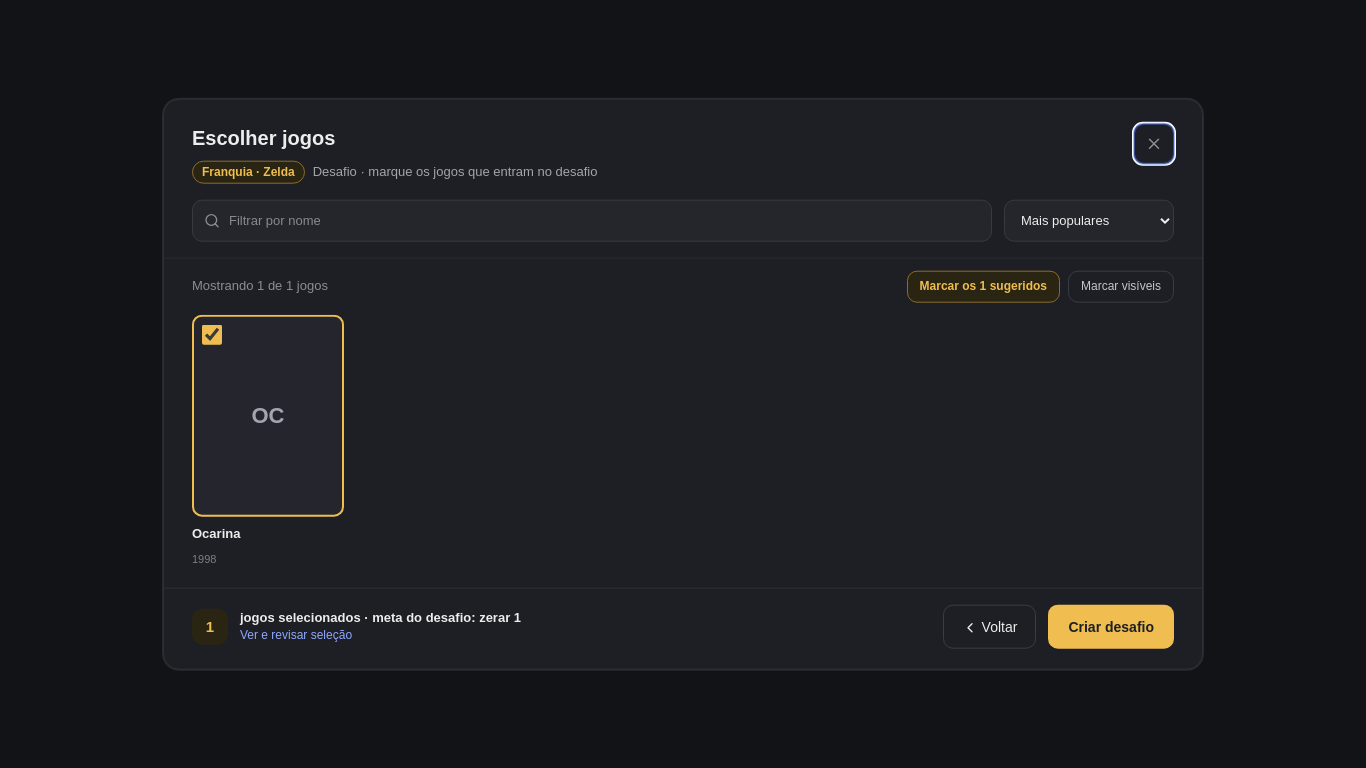
Test: EscolherJogosDialog › mostra sugeridos somente para franquia
Expected: the button "Marcar os 1 sugeridos" is shown, [907,270,1060,302]
Click the button "Ver e revisar seleção" at {"x": 296, "y": 635}, box [240,627,521,644]
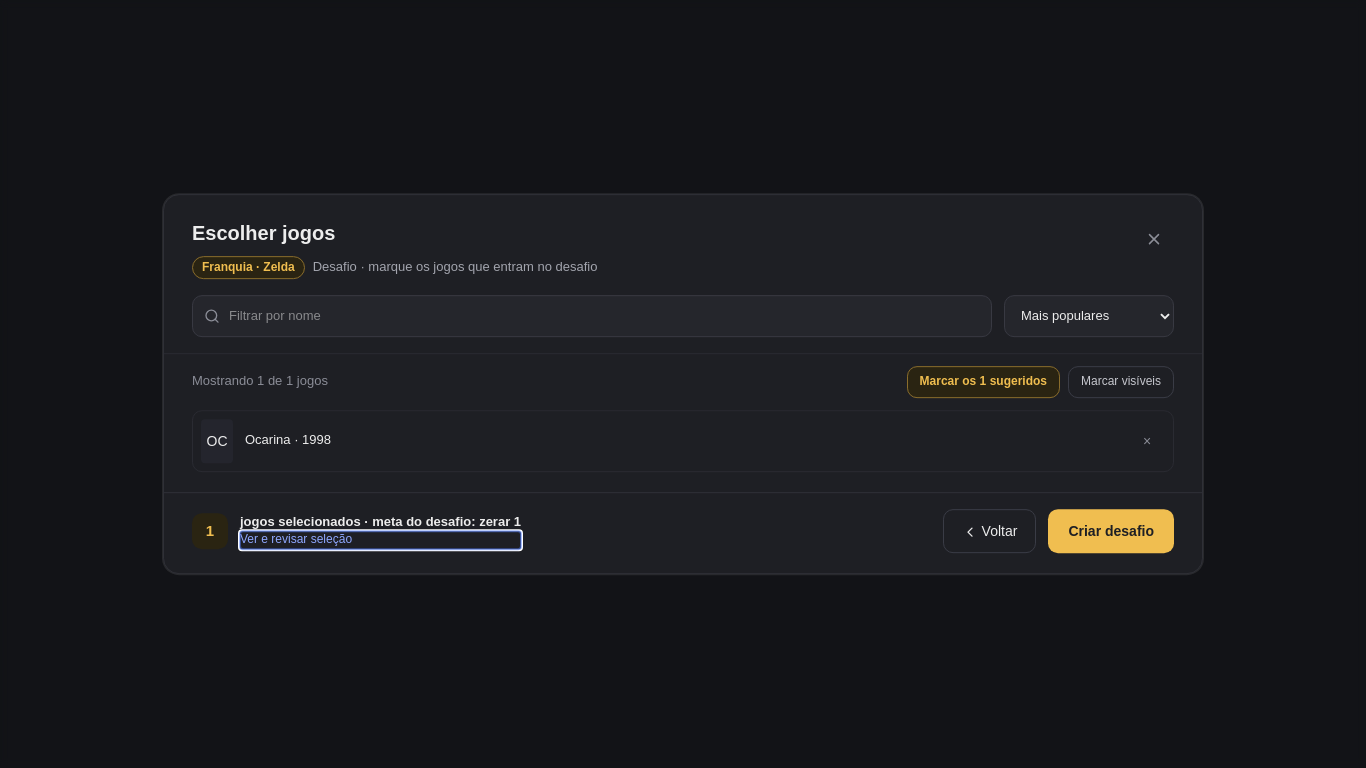
Result: the button named "Desmarcar Ocarina" is shown at [1129,423,1165,459]
